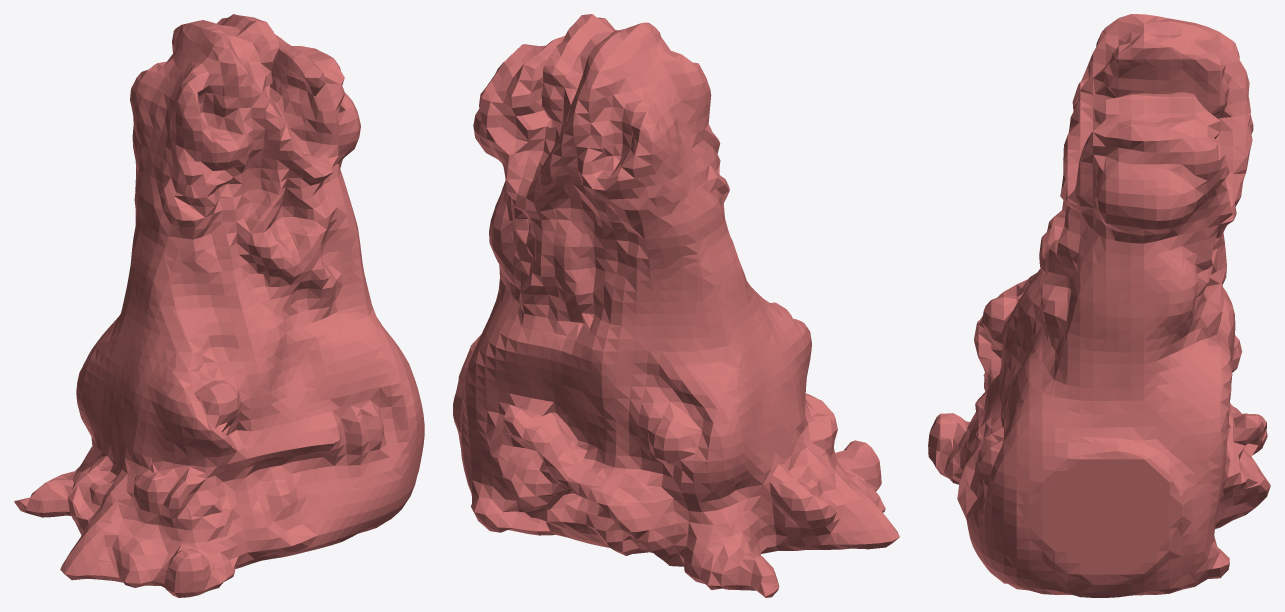
3 renders of one model, left to right at view 1: azimuth 30°, elevation 25°; view 2: azimuth 150°, elevation 25°; view 3: azimuth 270°, elevation 25°, orthographic. The views are drawn at different scales.
Parts seen in each view (by area): view 1: 6830_64_mc; view 2: 6830_64_mc; view 3: 6830_64_mc.
Part boxes in pixels (box(x1,y1,x2,y2)): 6830_64_mc: box(14, 14, 424, 597); 6830_64_mc: box(453, 14, 899, 597); 6830_64_mc: box(928, 14, 1270, 597).
Bounding box in the file's own units: 10.78 × 13.77 × 8.32.
